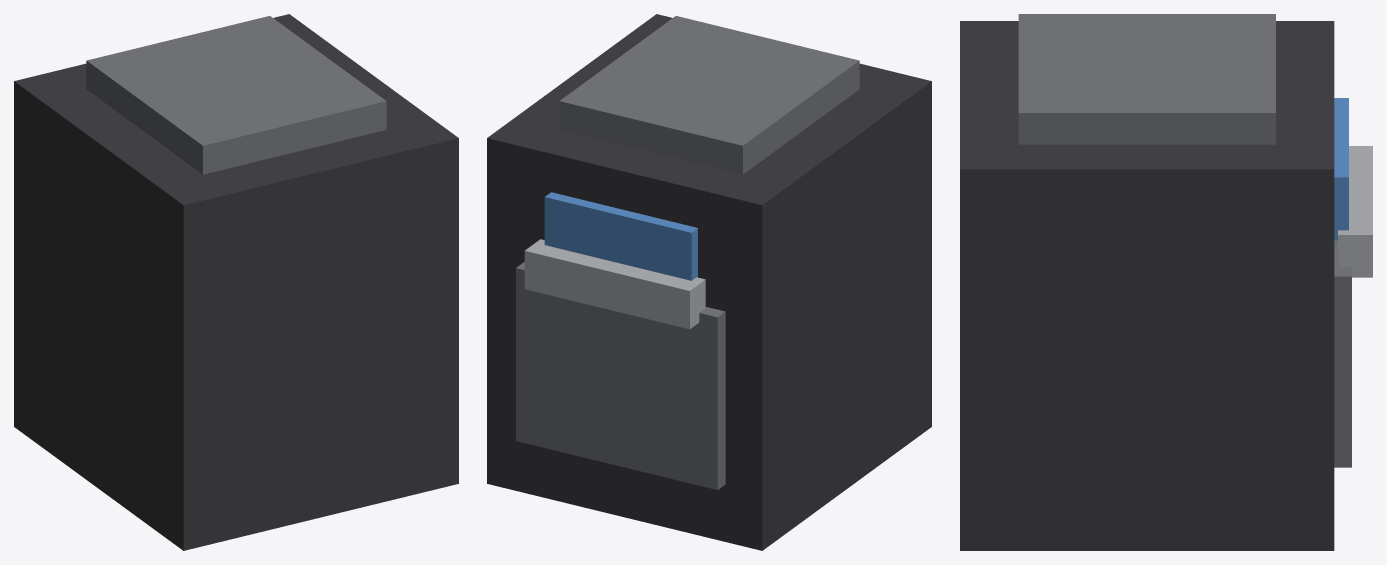
File: eld_airfryer2.glb
The picture shows the model from 3 angles, left to right: view 1: azimuth 30°, elevation 25°; view 2: azimuth 150°, elevation 25°; view 3: azimuth 270°, elevation 25°; orthographic projection. The views are drawn at different scales.
Visible parts, largest first — view 1: ELD_AIRFRYER2_v01; view 2: ELD_AIRFRYER2_v01; view 3: ELD_AIRFRYER2_v01.
Part boxes in pixels (box(x1,y1,x2,y2)): ELD_AIRFRYER2_v01: box(14, 14, 458, 550); ELD_AIRFRYER2_v01: box(487, 14, 931, 550); ELD_AIRFRYER2_v01: box(960, 14, 1372, 550).
Size of the model in its own units: 0.3 by 0.39 by 0.353.
